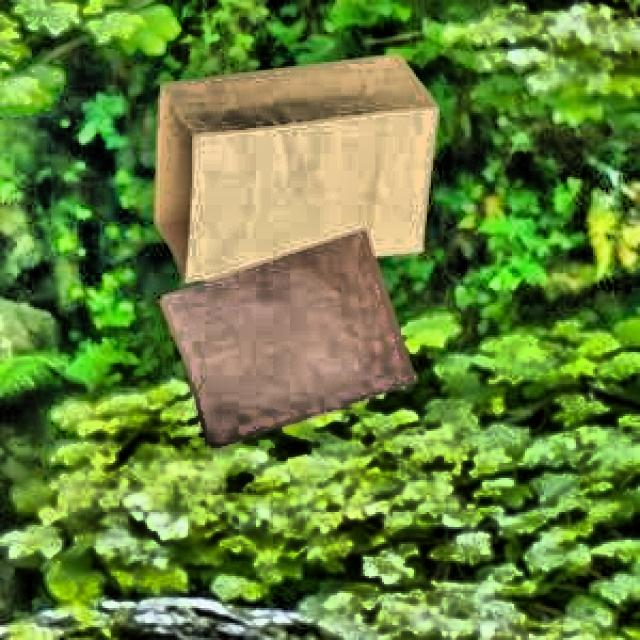Paper-bag: (146, 39, 448, 277), (146, 227, 426, 464)
